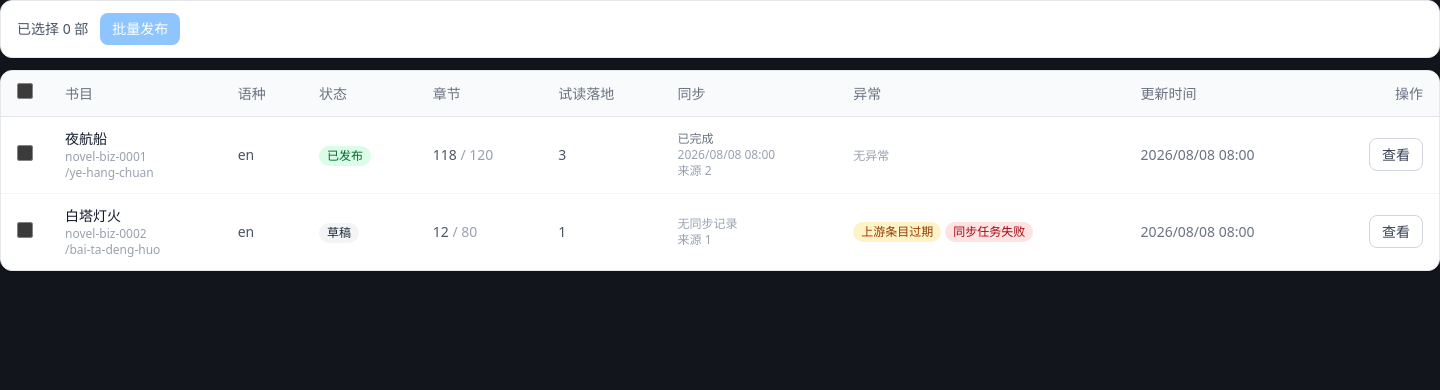
提交与逐条结果呈现 › no_article 项也计入结果并单独统计，不当成失败结果处理
The width and height of the screenshot is (1440, 390).
What coordinates should you click on to do the following:
click the checkbox named "选择 夜航船"
I would click on:
 (25, 152)
Its box is [17, 144, 33, 160].
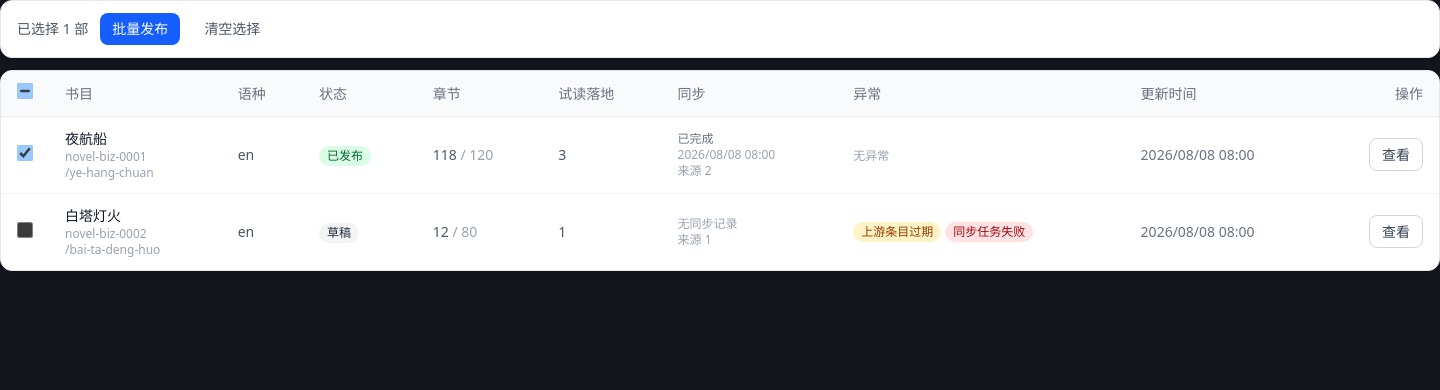
What coordinates should you click on to do the following:
click the button with test id "batch-publish-submit"
I would click on:
 (140, 29)
Its box is [100, 13, 180, 45].
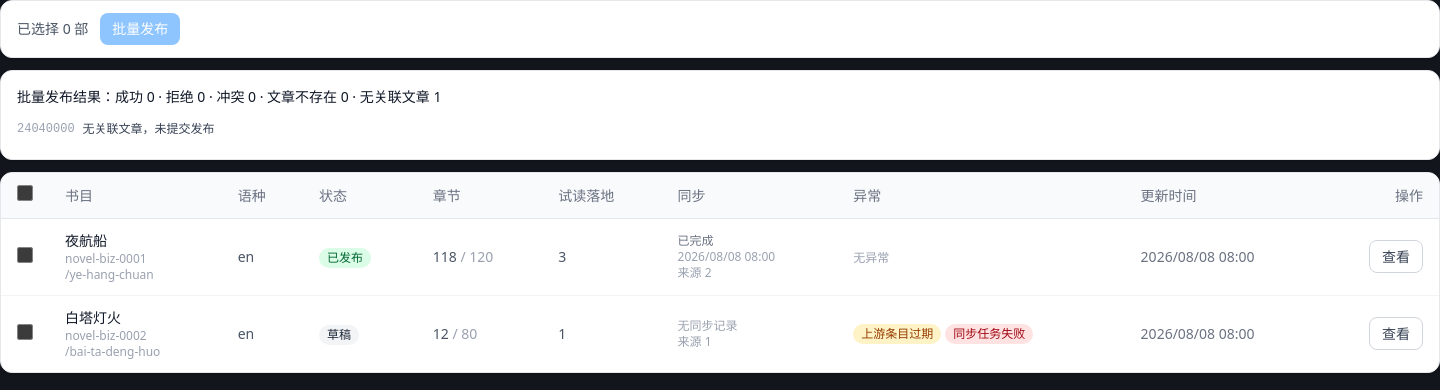
Now the element with test id "batch-publish-result" shows "无关联文章 1", box [349, 87, 441, 106]
